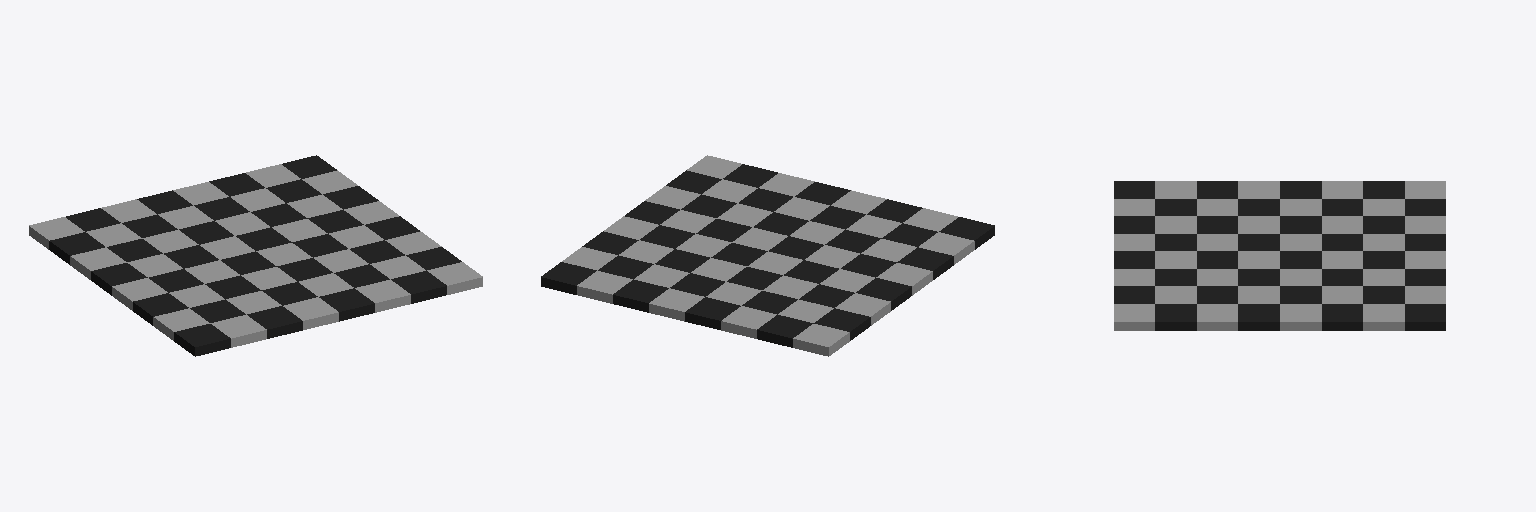
File: 4square.obj
The picture shows the model from 3 angles: view 1: azimuth 30°, elevation 25°; view 2: azimuth 150°, elevation 25°; view 3: azimuth 270°, elevation 25°; orthographic projection.
Parts seen in each view (by area): view 1: chessboard_Cube.002; view 2: chessboard_Cube.002; view 3: chessboard_Cube.002.
Boxes of the visible parts, <box> form: chessboard_Cube.002: <box>29,155,482,356</box>; chessboard_Cube.002: <box>541,155,994,356</box>; chessboard_Cube.002: <box>1114,181,1445,330</box>.
Bounding box in the file's own units: 16 × 0.5 × 16.